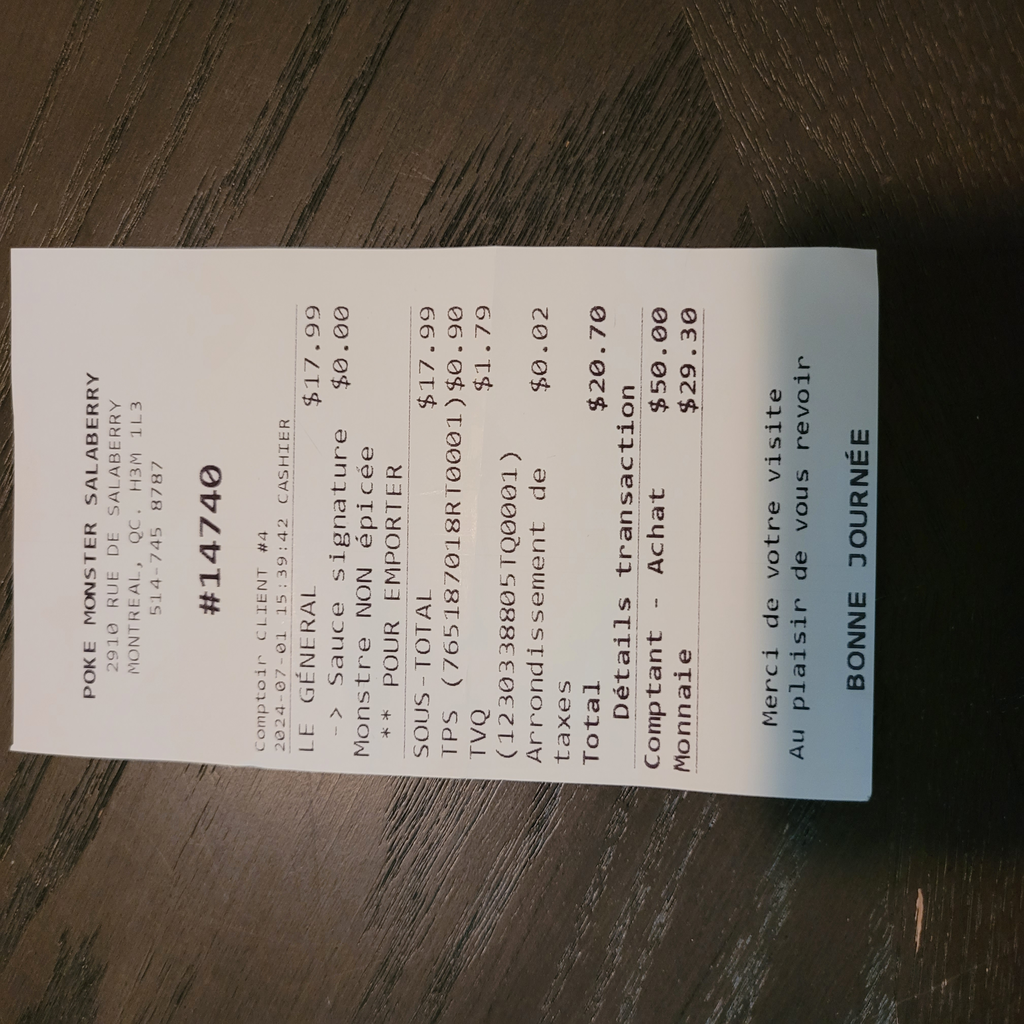recipt: (2, 237, 879, 799)
